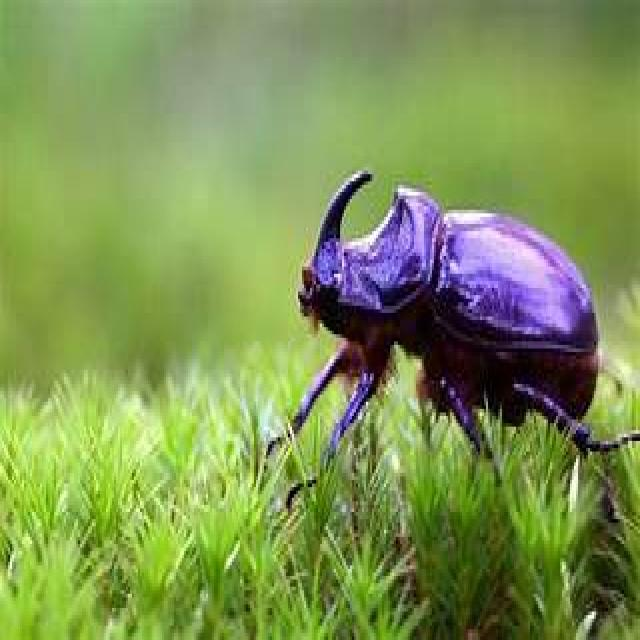Rhino-beetle: (257, 164, 627, 542)
